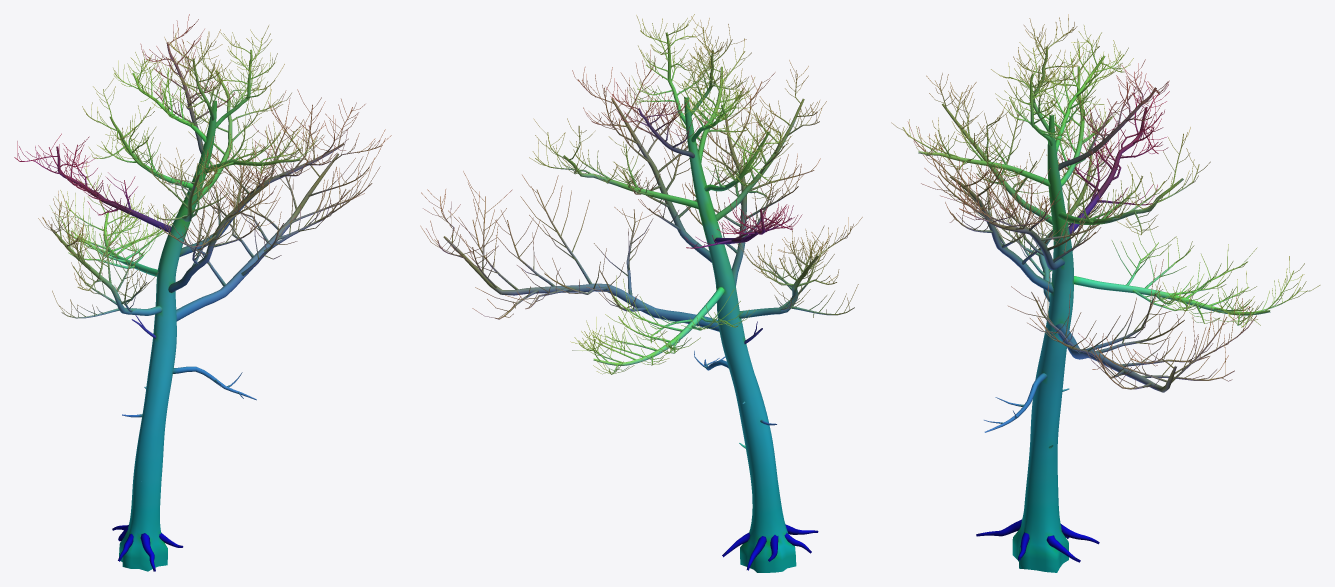
The model's file is pine-old.glb.
The picture shows the model from 3 angles, left to right: view 1: azimuth 30°, elevation 25°; view 2: azimuth 150°, elevation 25°; view 3: azimuth 270°, elevation 25°; orthographic projection. The views are drawn at different scales.
Parts seen in each view (by area): view 1: bark; view 2: bark; view 3: bark.
Part boxes in pixels (box(x1,y1,x2,y2)): bark: box(14, 14, 391, 571); bark: box(420, 14, 862, 572); bark: box(891, 14, 1320, 572).
Size of the model in its own units: 13.59 by 17.41 by 11.87.
